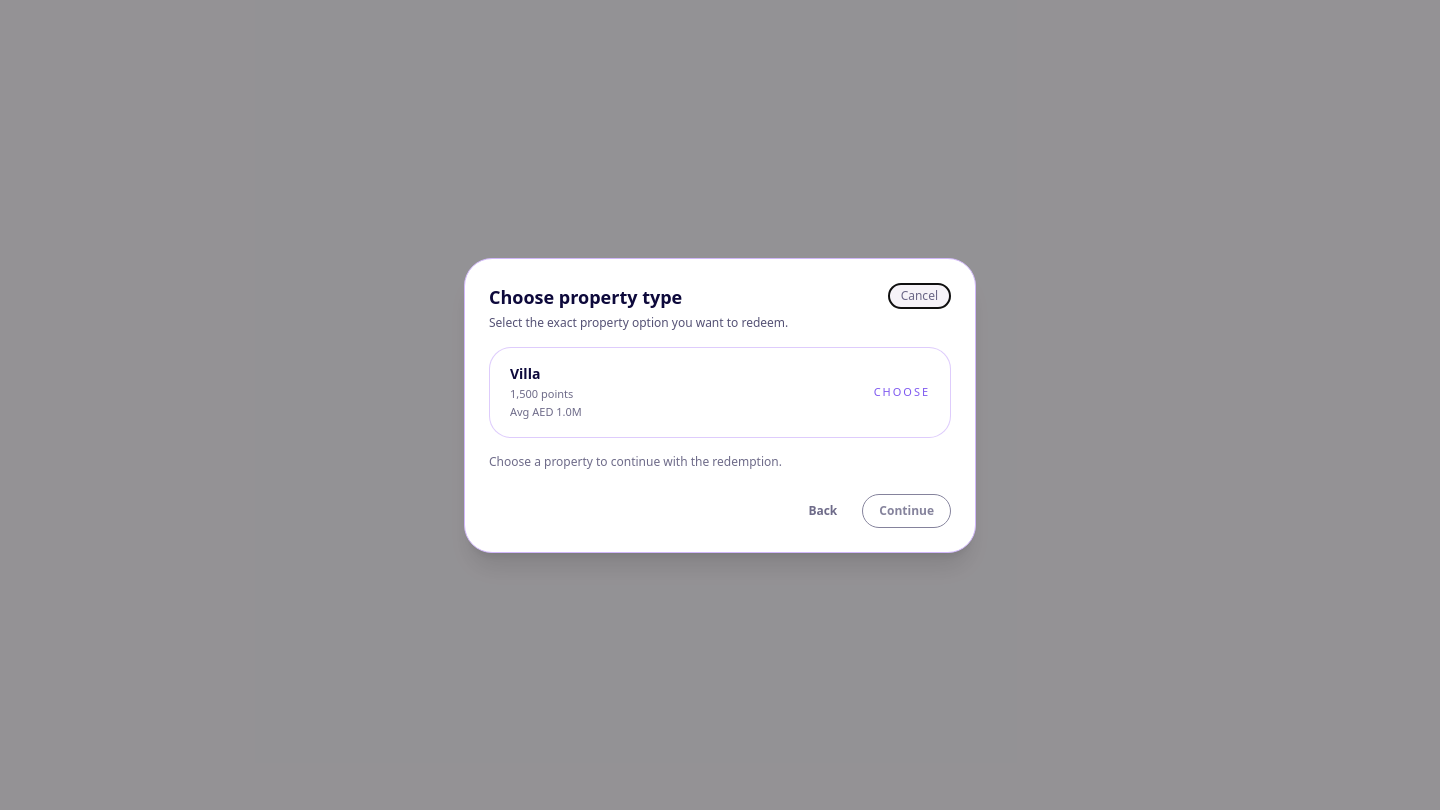
TokenRedemptionFlow › walks through allocation selection and buyer verification
Click the button "Villa 1,500 points Avg AED 1.0M Choose" at x=525, y=373, box [489,346,951,438]
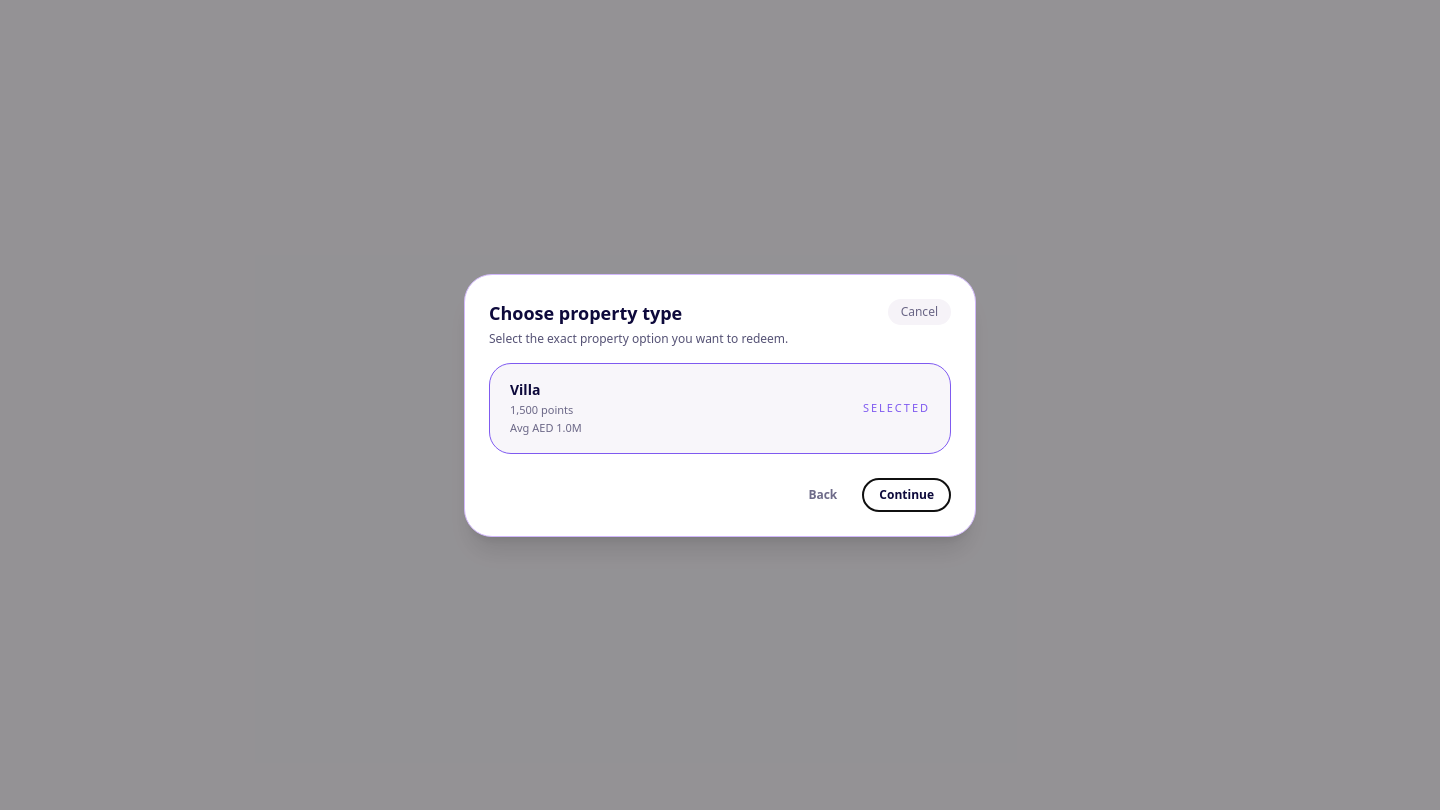
Click the button "Continue" at x=907, y=494, box [862,478,951,512]
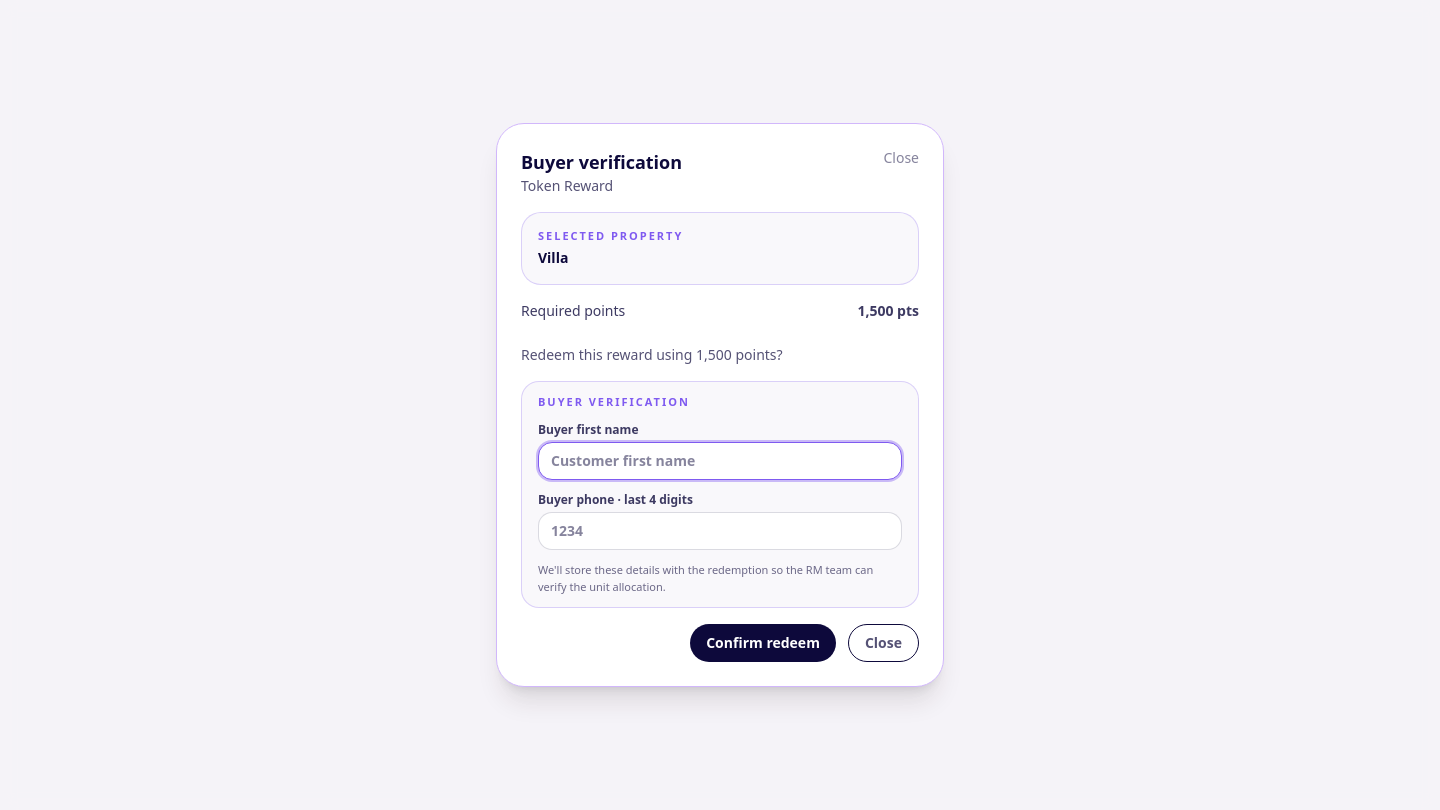
Result: the heading "Buyer verification" is shown at [521,150,682,174]
Type "Sara" into the field with placeholder "Customer first name" at x=720, y=461, box [538,442,902,480]
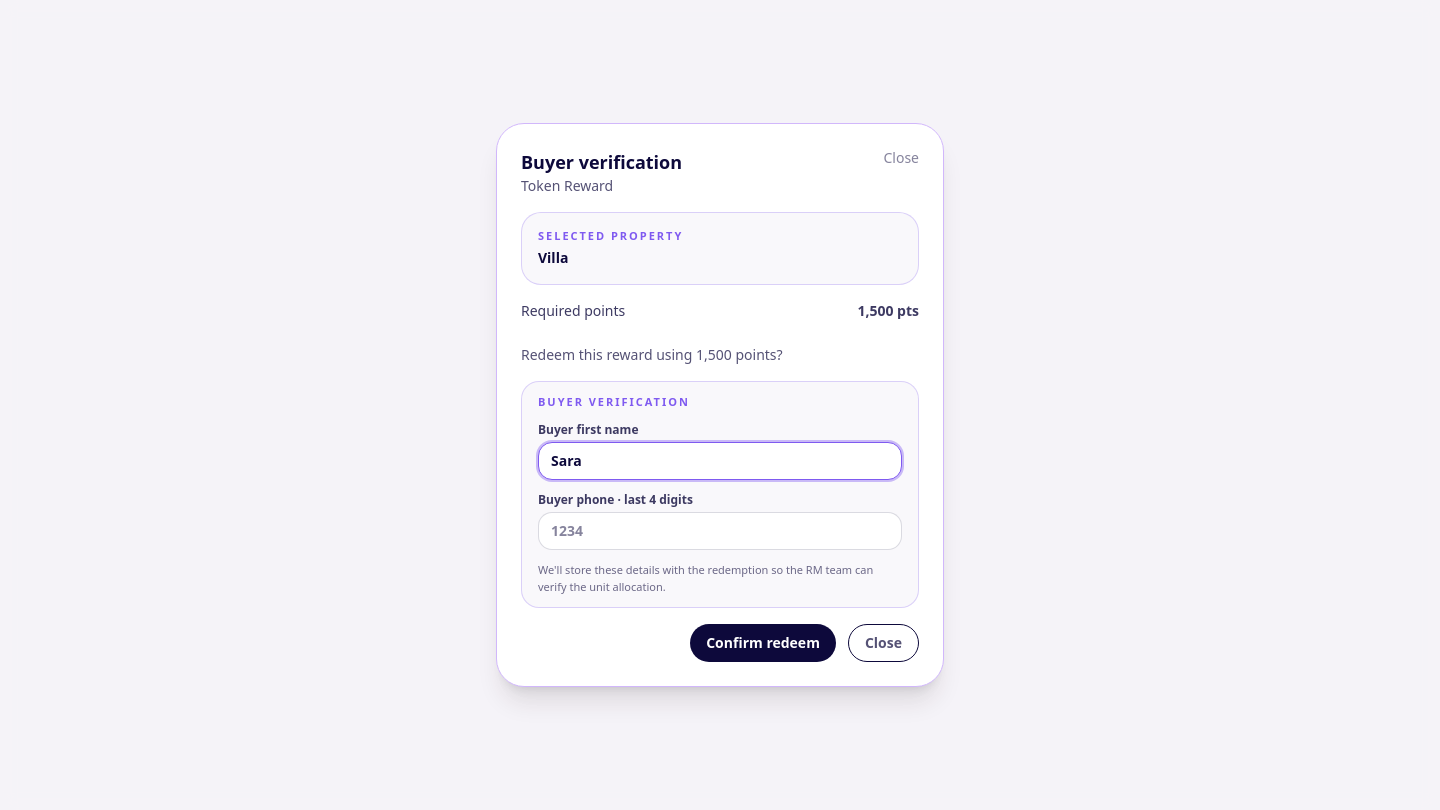
Type "8888" into the field with placeholder "1234" at x=720, y=531, box [538,512,902,550]
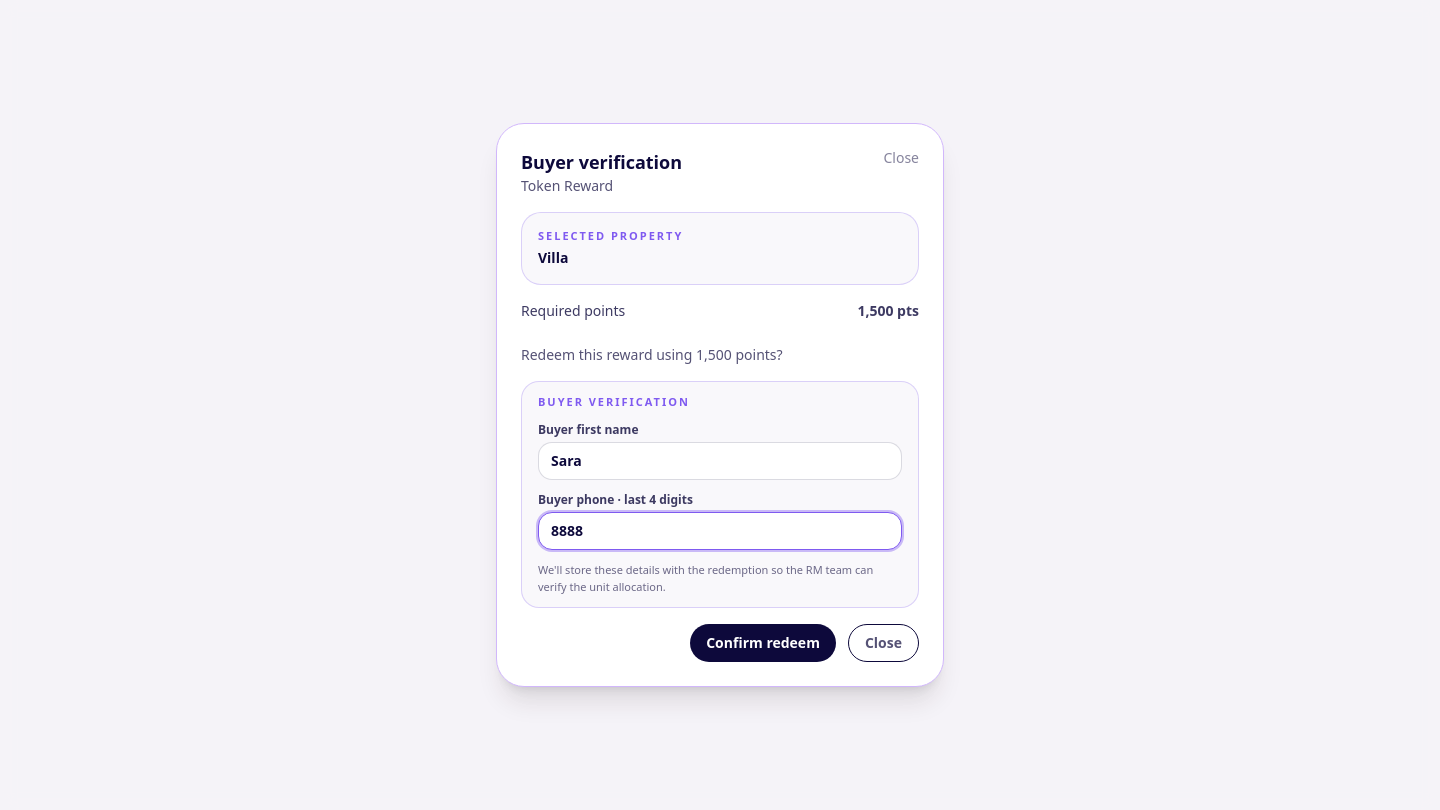
Click the button "Confirm redeem" at x=763, y=643, box [690,624,836,662]
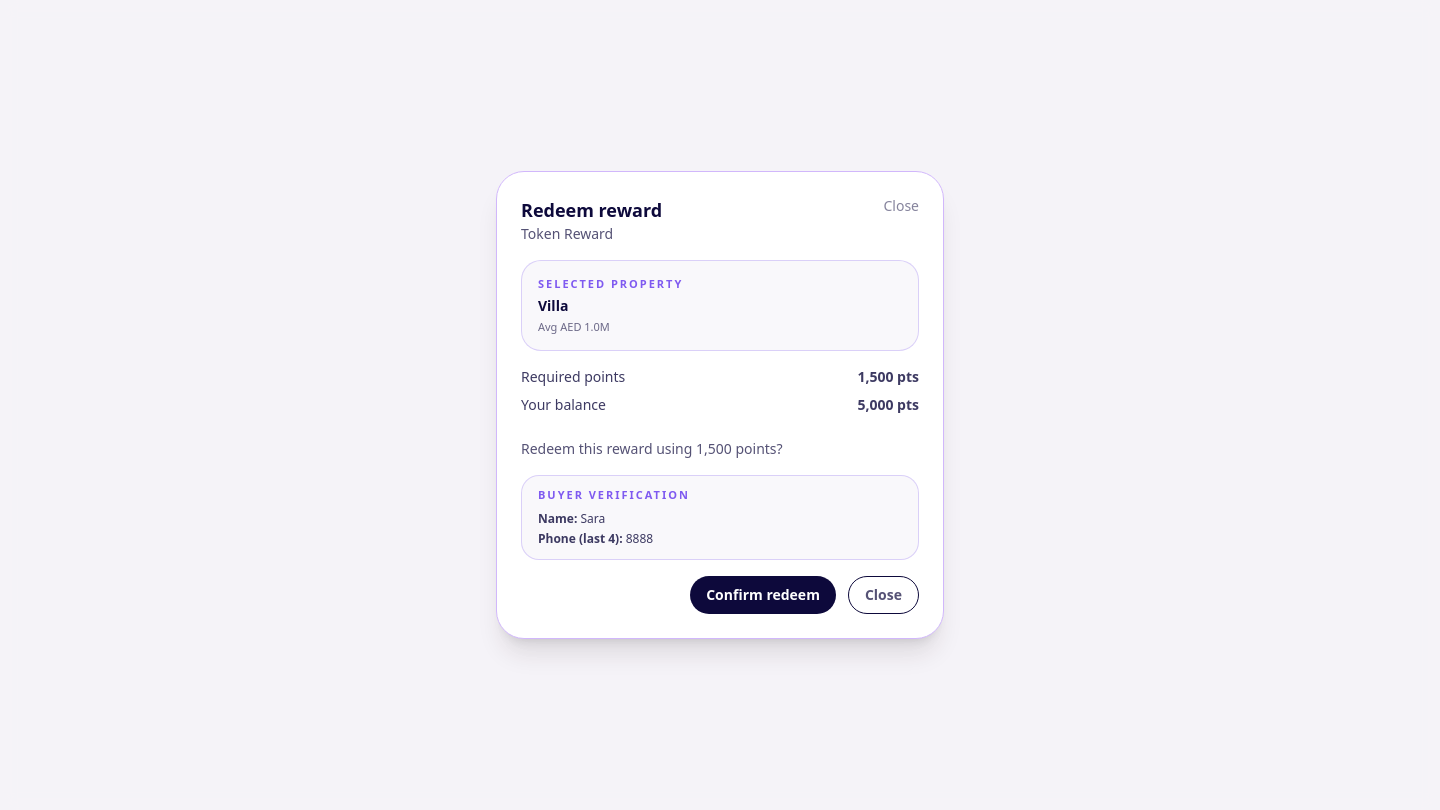
Result: the heading "Redeem reward" is shown at [521,198,662,222]
